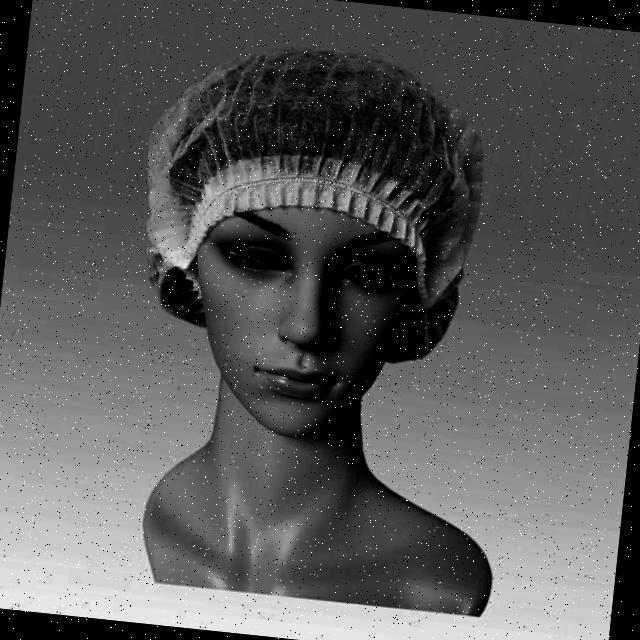no_hairnet: (213, 302, 345, 408)
